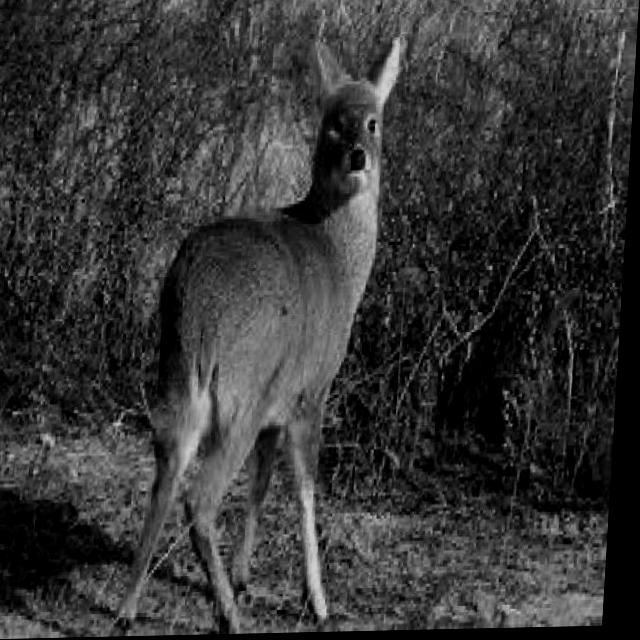Deer: (111, 30, 421, 633)
